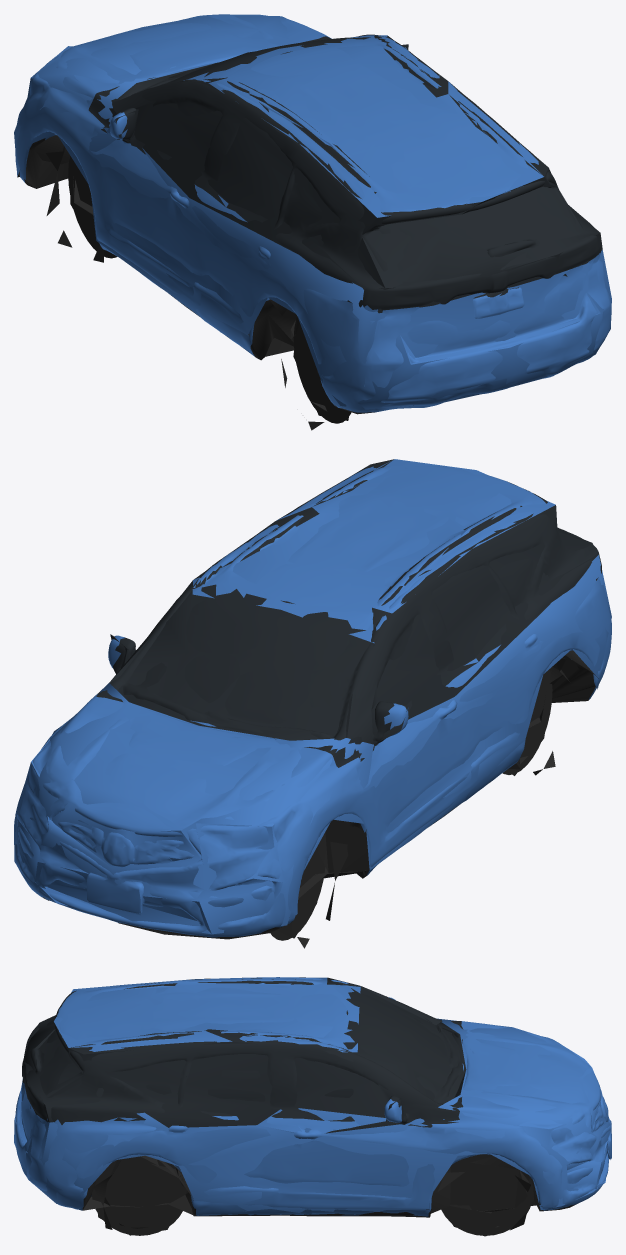
Rendered from acura-rdx.glb.
The picture shows the model from 3 angles, top to bottom: view 1: azimuth 30°, elevation 25°; view 2: azimuth 150°, elevation 25°; view 3: azimuth 270°, elevation 25°; orthographic projection. The views are drawn at different scales.
Parts seen in each view (by area): view 1: body, far; view 2: body, far; view 3: body, far.
Part boxes in pixels (x1=…): body: x1=15, y1=14, x2=611, y2=430; far: x1=14, y1=15, x2=611, y2=420; body: x1=14, y1=465, x2=611, y2=948; far: x1=14, y1=459, x2=611, y2=938; body: x1=15, y1=977, x2=611, y2=1235; far: x1=14, y1=977, x2=610, y2=1236.
Size of the model in its own units: 2.09 by 1.73 by 4.78.
